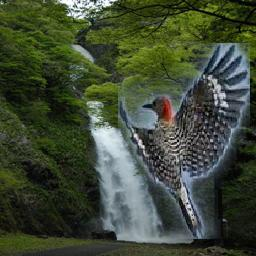Woodpecker: (118, 43, 250, 239)
